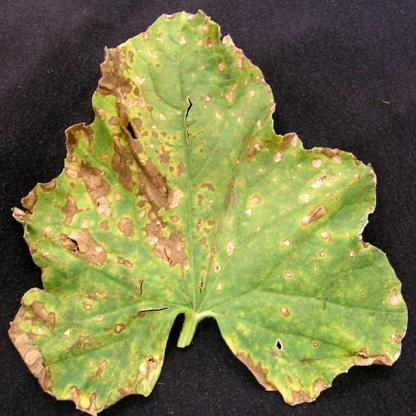Anthracnose: (85, 38, 210, 277), (50, 165, 227, 281), (9, 287, 174, 401), (235, 123, 354, 267), (231, 330, 350, 405)
